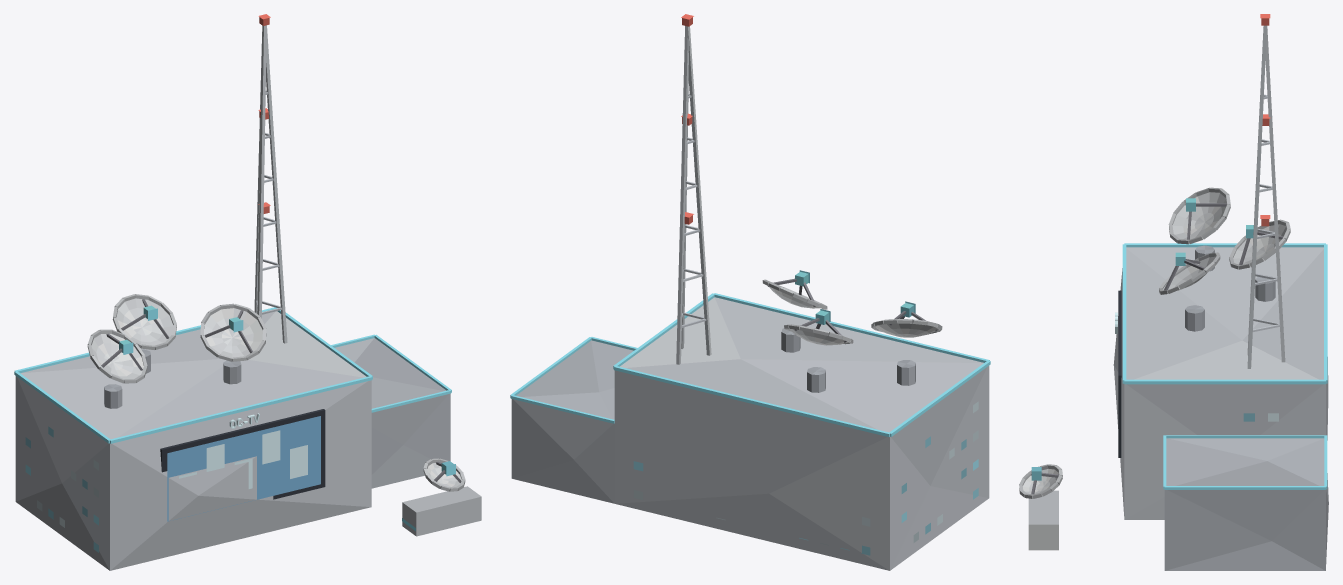
File: orbital_site.glb
The picture shows the model from 3 angles, left to right: view 1: azimuth 30°, elevation 25°; view 2: azimuth 150°, elevation 25°; view 3: azimuth 270°, elevation 25°; orthographic projection. The views are drawn at different scales.
Parts seen in each view (by area): view 1: orbital_site__solid, orbital_site__neon, orbital_site__win; view 2: orbital_site__solid, orbital_site__neon, orbital_site__win; view 3: orbital_site__solid, orbital_site__neon.
Part boxes in pixels (bbox=[...]): orbital_site__solid: bbox=[15, 17, 481, 570]; orbital_site__neon: bbox=[14, 14, 455, 531]; orbital_site__win: bbox=[25, 426, 98, 552]; orbital_site__solid: bbox=[511, 17, 989, 570]; orbital_site__neon: bbox=[510, 14, 990, 436]; orbital_site__win: bbox=[633, 401, 978, 555]; orbital_site__solid: bbox=[1019, 18, 1328, 570]; orbital_site__neon: bbox=[1122, 14, 1327, 489].
Size of the model in its own units: 35.46 by 42.28 by 24.6.
